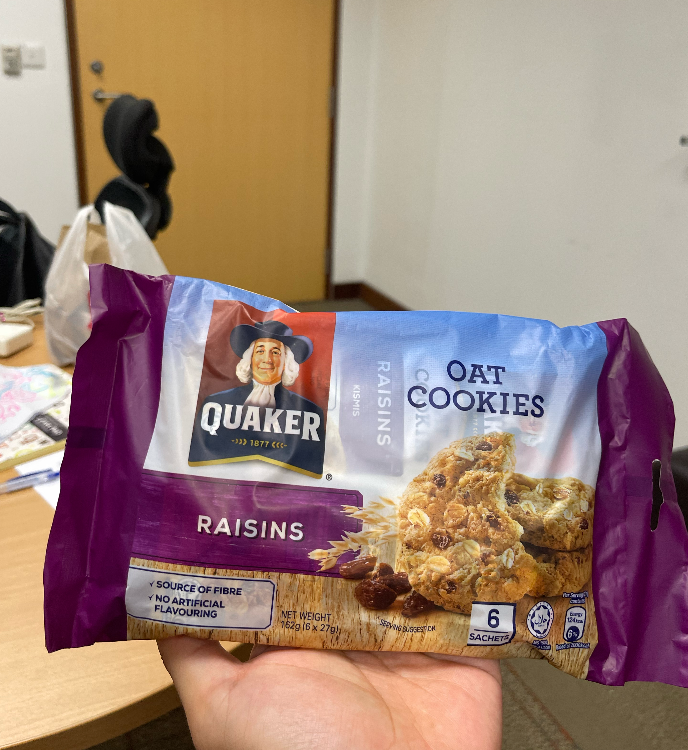cookies_100g-199g: (134, 317, 607, 649)
